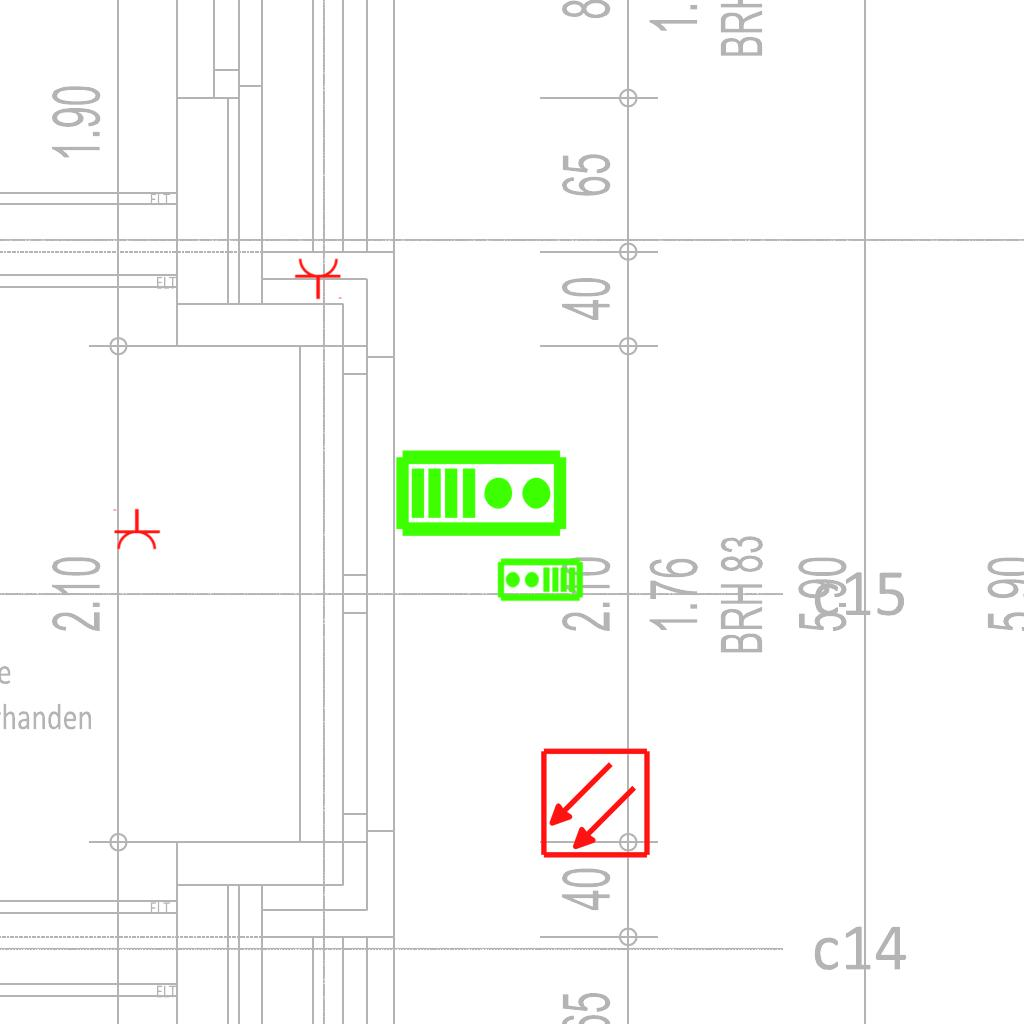Gegensprechanlage_mit_Video: (394, 444, 570, 539), (496, 557, 584, 604)
RMO_Rauchmelder_optischer: (539, 747, 652, 860)
Schukosteckdose_einfach: (111, 508, 161, 551), (294, 257, 344, 300)
